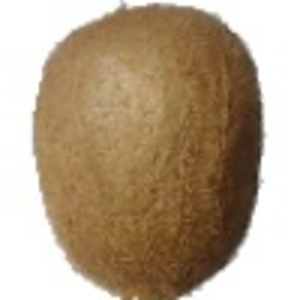kiwi: (28, 1, 266, 300)
